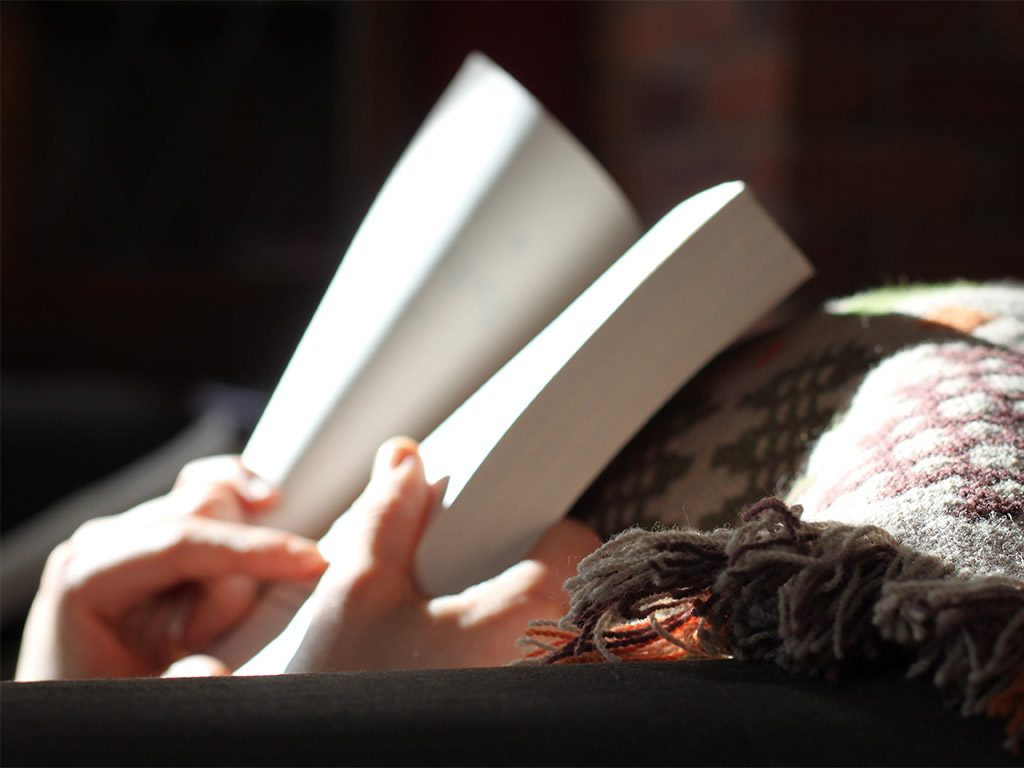Open Book: (213, 42, 815, 676)
